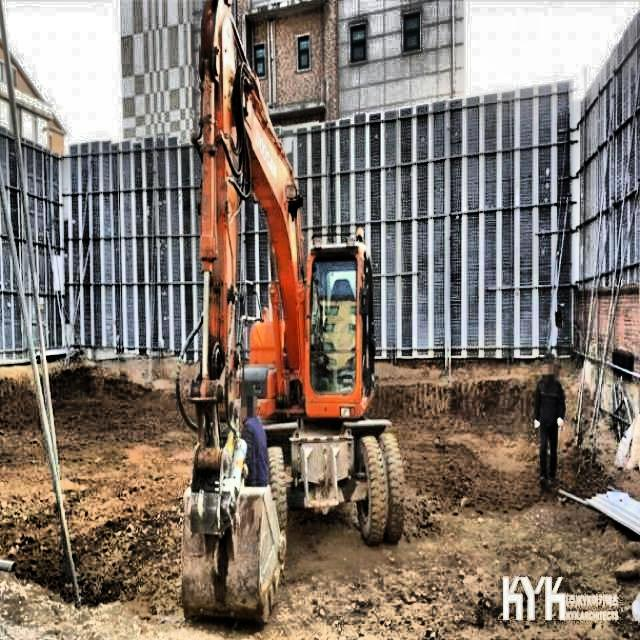bull_dozer/loader/grader: (179, 0, 405, 626)
person: (534, 352, 567, 486)
